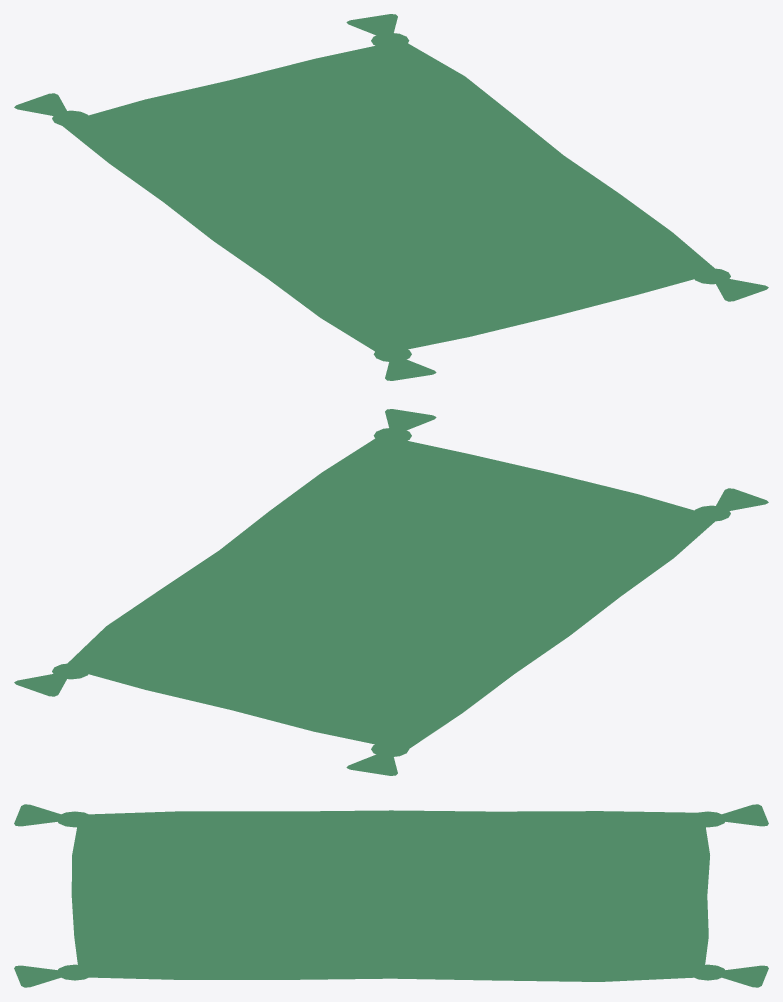
File: Rug_V2.fbx
3 views of the same model, one above another, from view 1: azimuth 30°, elevation 25°; view 2: azimuth 150°, elevation 25°; view 3: azimuth 270°, elevation 25° (orthographic).
Parts seen in each view (by area): view 1: Rug; view 2: Rug; view 3: Rug.
Part boxes in pixels (bbox=[...]): Rug: bbox=[14, 14, 768, 380]; Rug: bbox=[14, 409, 768, 775]; Rug: bbox=[14, 804, 768, 987].
Size of the model in its own units: 356 by 0.0134 by 620.
